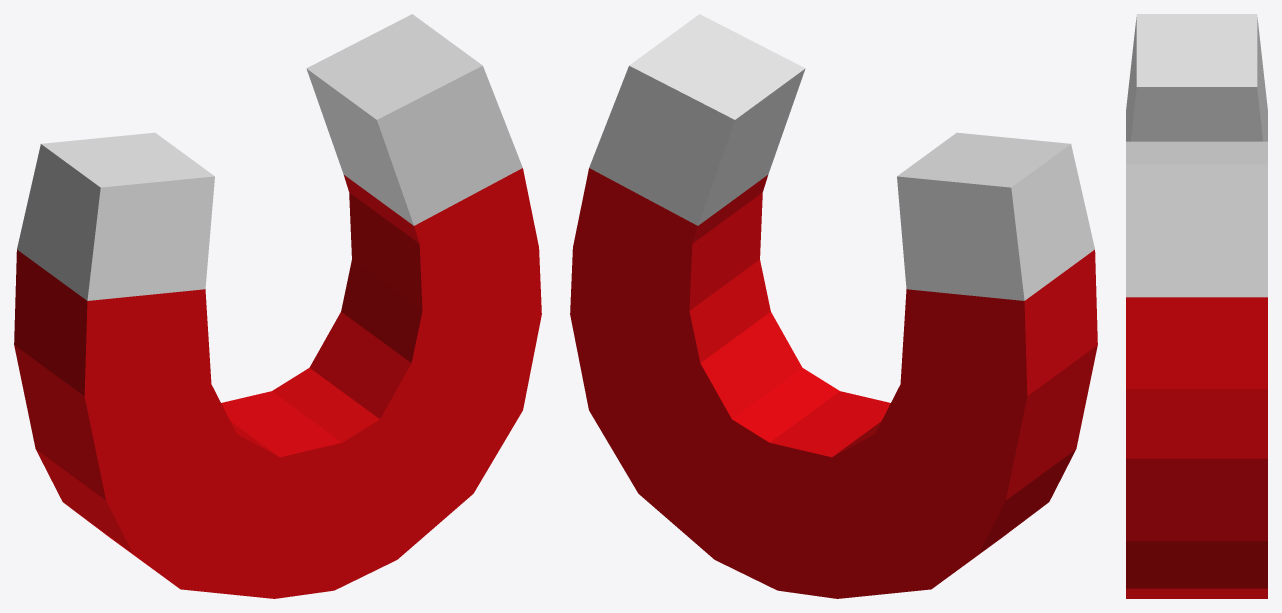
The model's file is Magnet.fbx.
3 renders of one model, left to right at view 1: azimuth 30°, elevation 25°; view 2: azimuth 150°, elevation 25°; view 3: azimuth 270°, elevation 25°, orthographic.
Parts seen in each view (by area): view 1: Cube; view 2: Cube; view 3: Cube.
Boxes of the visible parts, x1,y1,x2,y2 form: Cube: (14, 14, 541, 598); Cube: (570, 14, 1097, 598); Cube: (1126, 14, 1267, 598).
Bounding box in the file's own units: 1459 × 1491 × 390.
